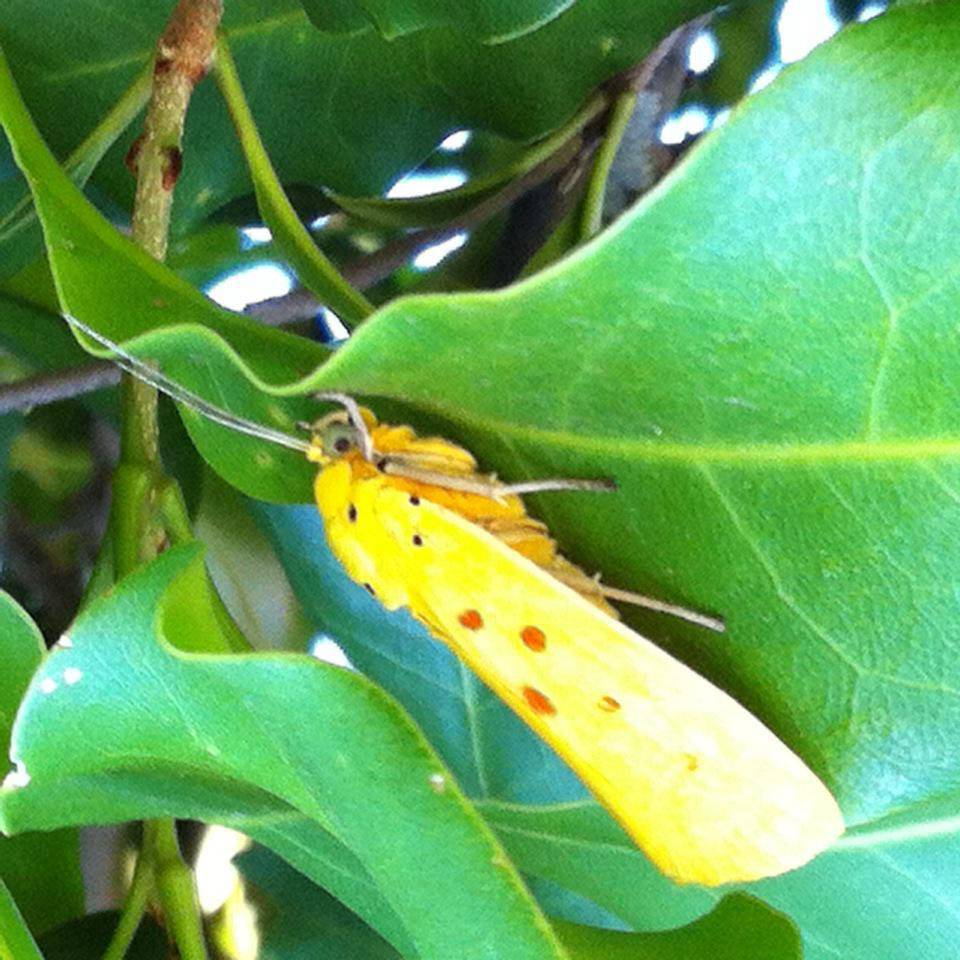Agape chloropyga: (64, 311, 862, 887)
moth: (62, 309, 860, 885)
